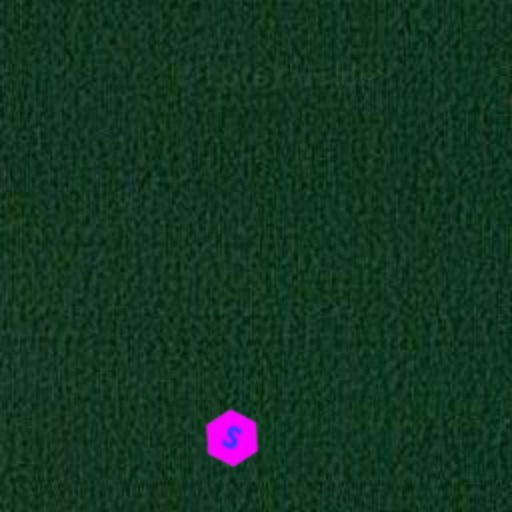hexagon: (192, 398, 272, 478)
